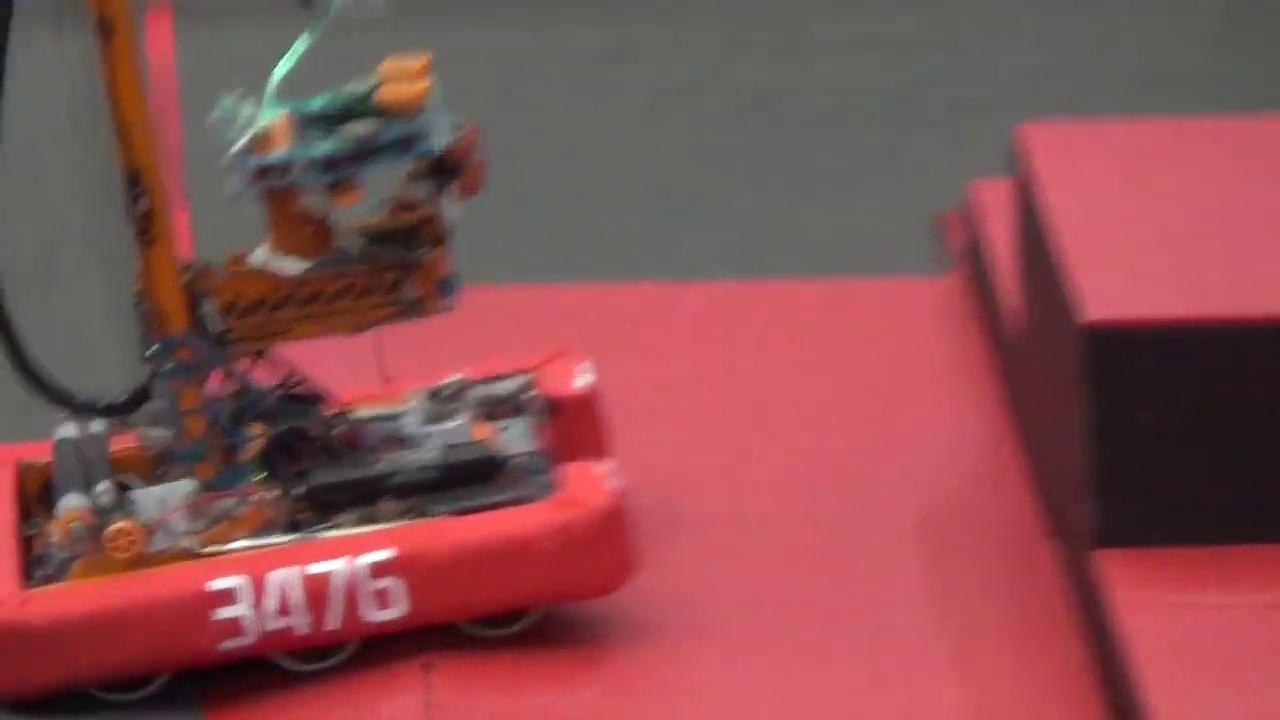robot: (0, 0, 643, 709)
